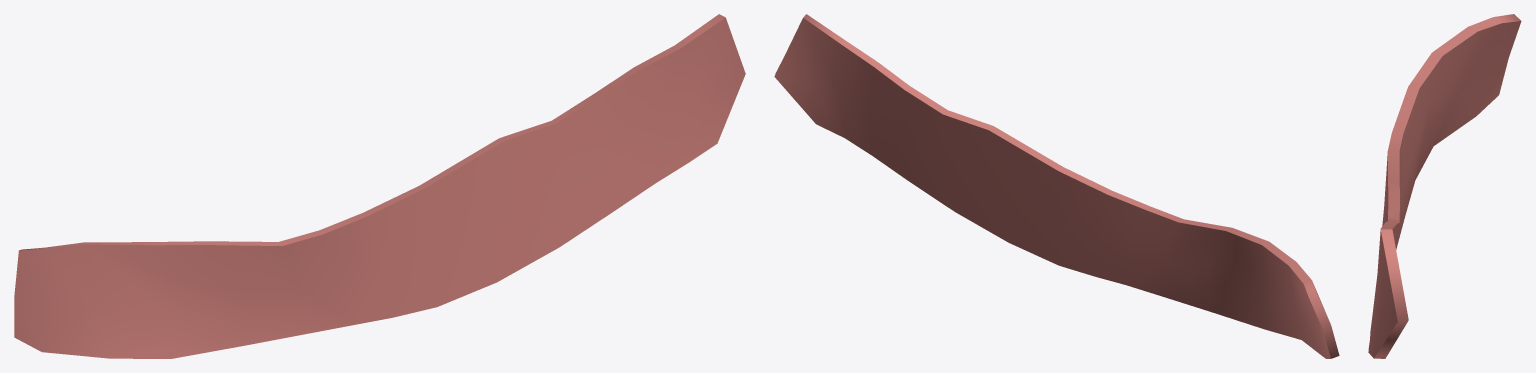
3 views of the same model, side by side, from view 1: azimuth 30°, elevation 25°; view 2: azimuth 150°, elevation 25°; view 3: azimuth 270°, elevation 25° (orthographic). The views are drawn at different scales.
Parts seen in each view (by area): view 1: ZA_e4945e76463b5e2d; view 2: ZA_e4945e76463b5e2d; view 3: ZA_e4945e76463b5e2d.
Boxes of the visible parts, box(x1,y1,x2,y2) form: ZA_e4945e76463b5e2d: box(14, 14, 745, 358); ZA_e4945e76463b5e2d: box(774, 14, 1339, 358); ZA_e4945e76463b5e2d: box(1368, 14, 1521, 358).
Size of the model in its own units: 0.0748 by 0.0227 by 0.013.
